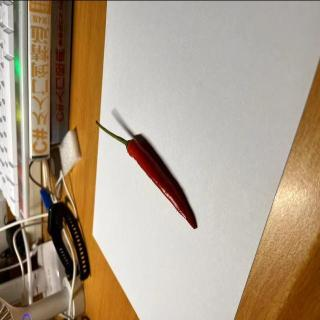Cabai Merah: (96, 120, 196, 230)
